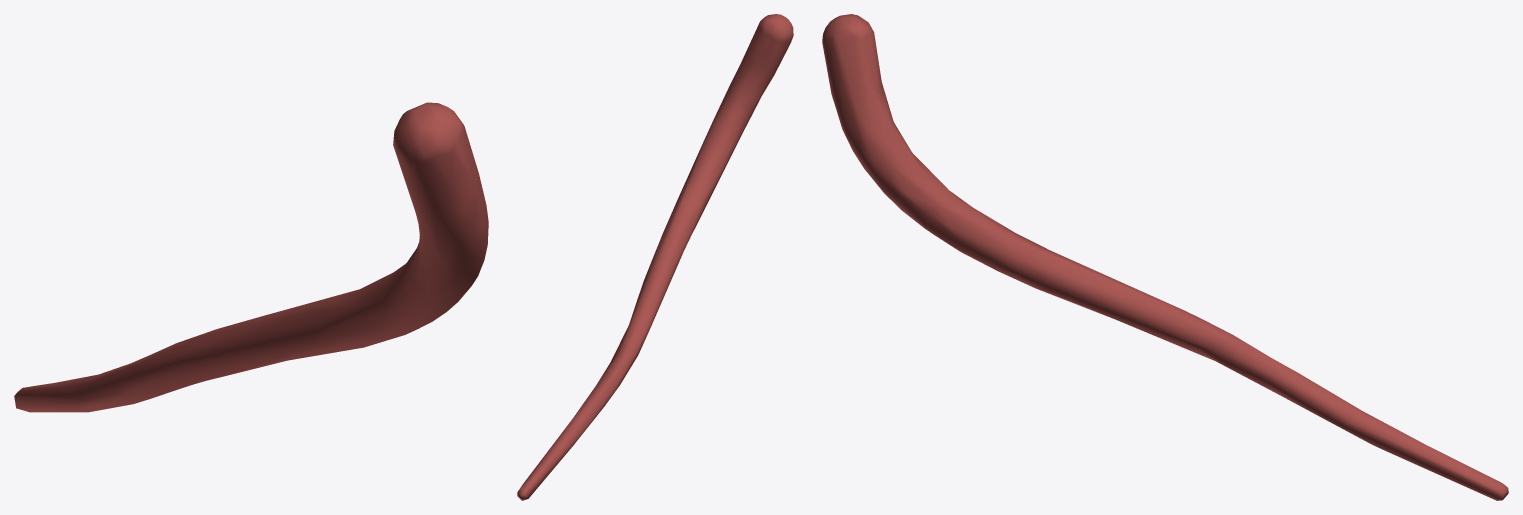
File: FMA18809.glb
3 renders of one model, left to right at view 1: azimuth 30°, elevation 25°; view 2: azimuth 150°, elevation 25°; view 3: azimuth 270°, elevation 25°, orthographic. The views are drawn at different scales.
Parts seen in each view (by area): view 1: FMA18809; view 2: FMA18809; view 3: FMA18809.
Boxes of the visible parts, x1=… form: FMA18809: x1=14, y1=102, x2=488, y2=412; FMA18809: x1=517, y1=14, x2=793, y2=500; FMA18809: x1=822, y1=14, x2=1508, y2=500.
Bounding box in the file's own units: 0.0116 × 0.0621 × 0.083.
